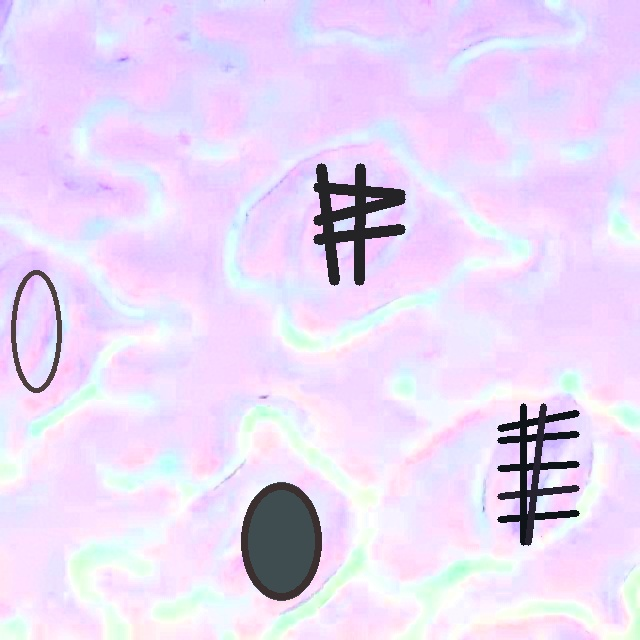open: (498, 404, 578, 545), (314, 164, 405, 285), (241, 482, 321, 600), (11, 269, 62, 393)
